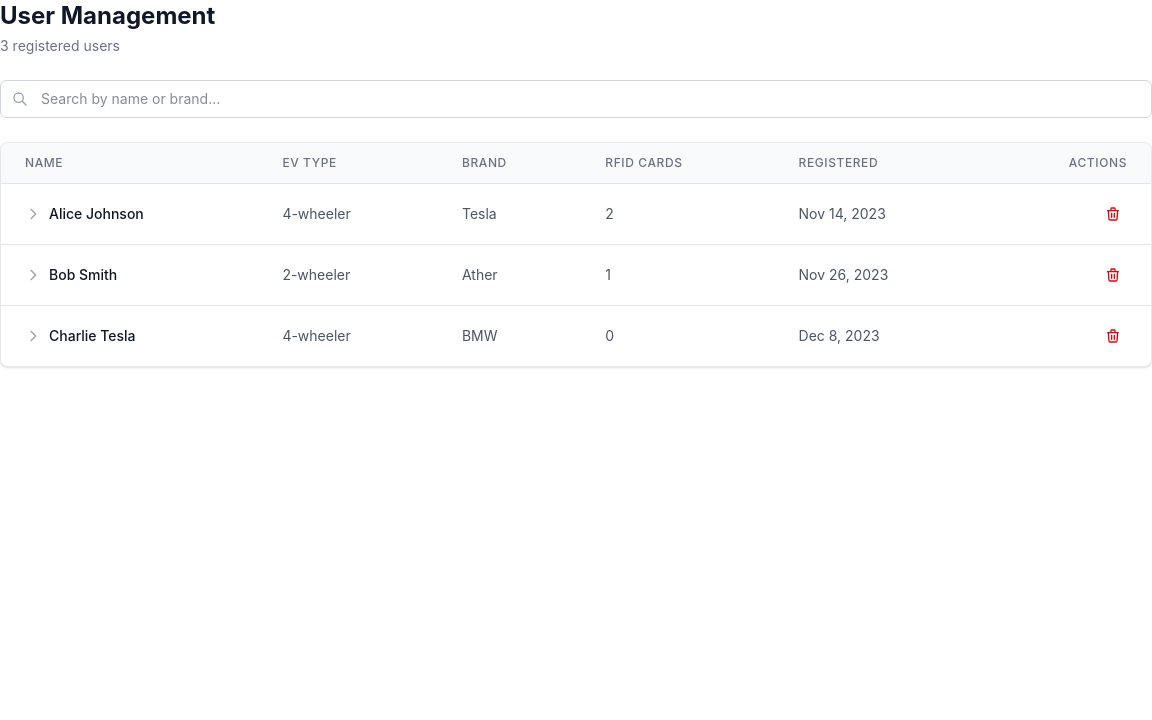
UserManagementPage › Delete confirmation dialog › canceling delete closes the dialog without deleting
Check: the text "Alice Johnson" is shown, box [25,205,144,222]
Click the button named "Delete user Alice Johnson": (1113, 214) [1099,200,1127,228]
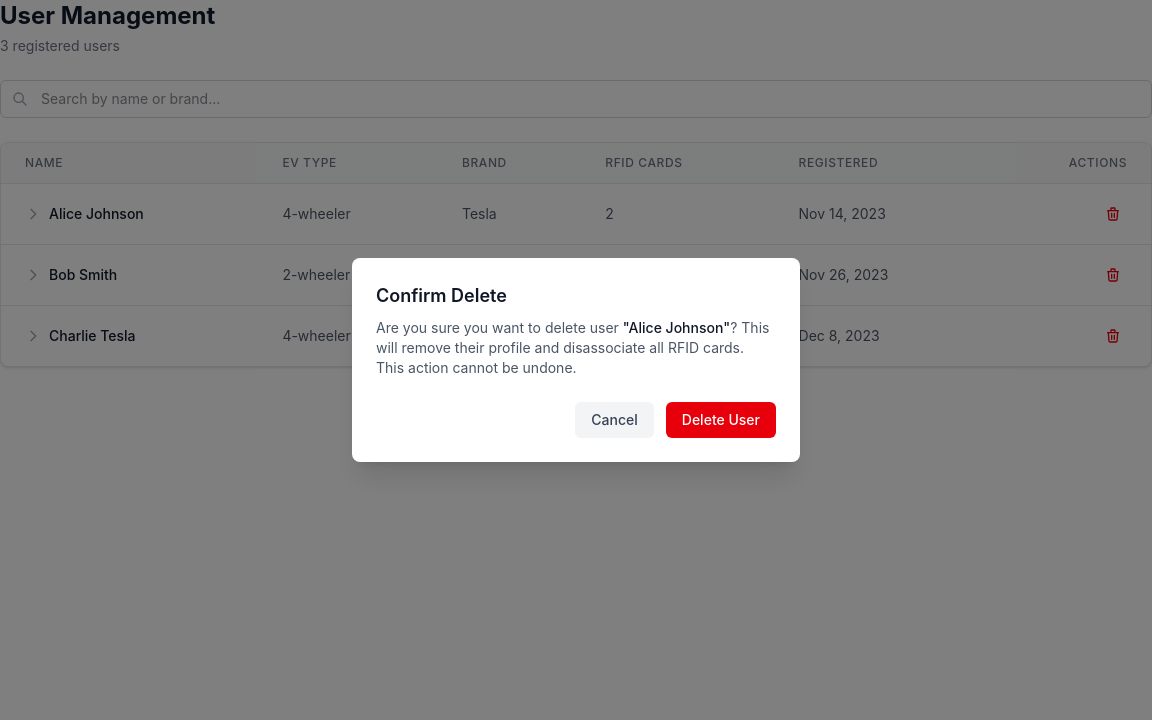
Check: the dialog is shown
Click the button "Cancel": (615, 420) [575,402,654,438]
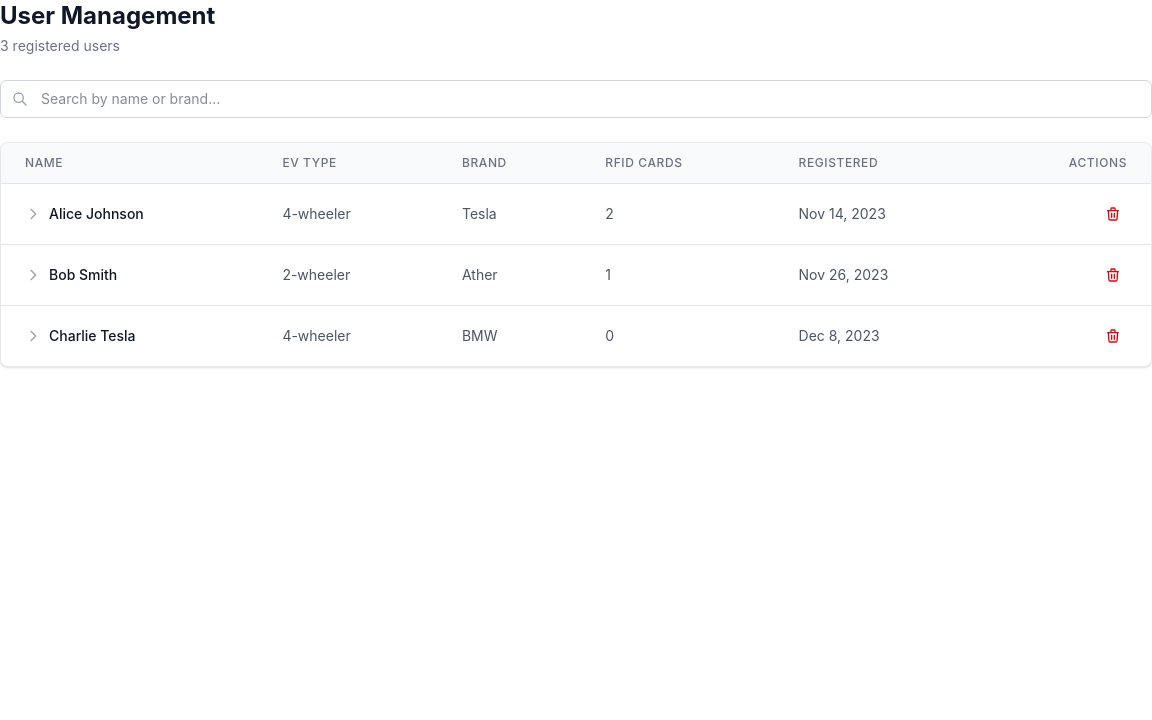
Check: the text "Alice Johnson" is shown, box [25,205,144,222]
Check: the dialog is gone
